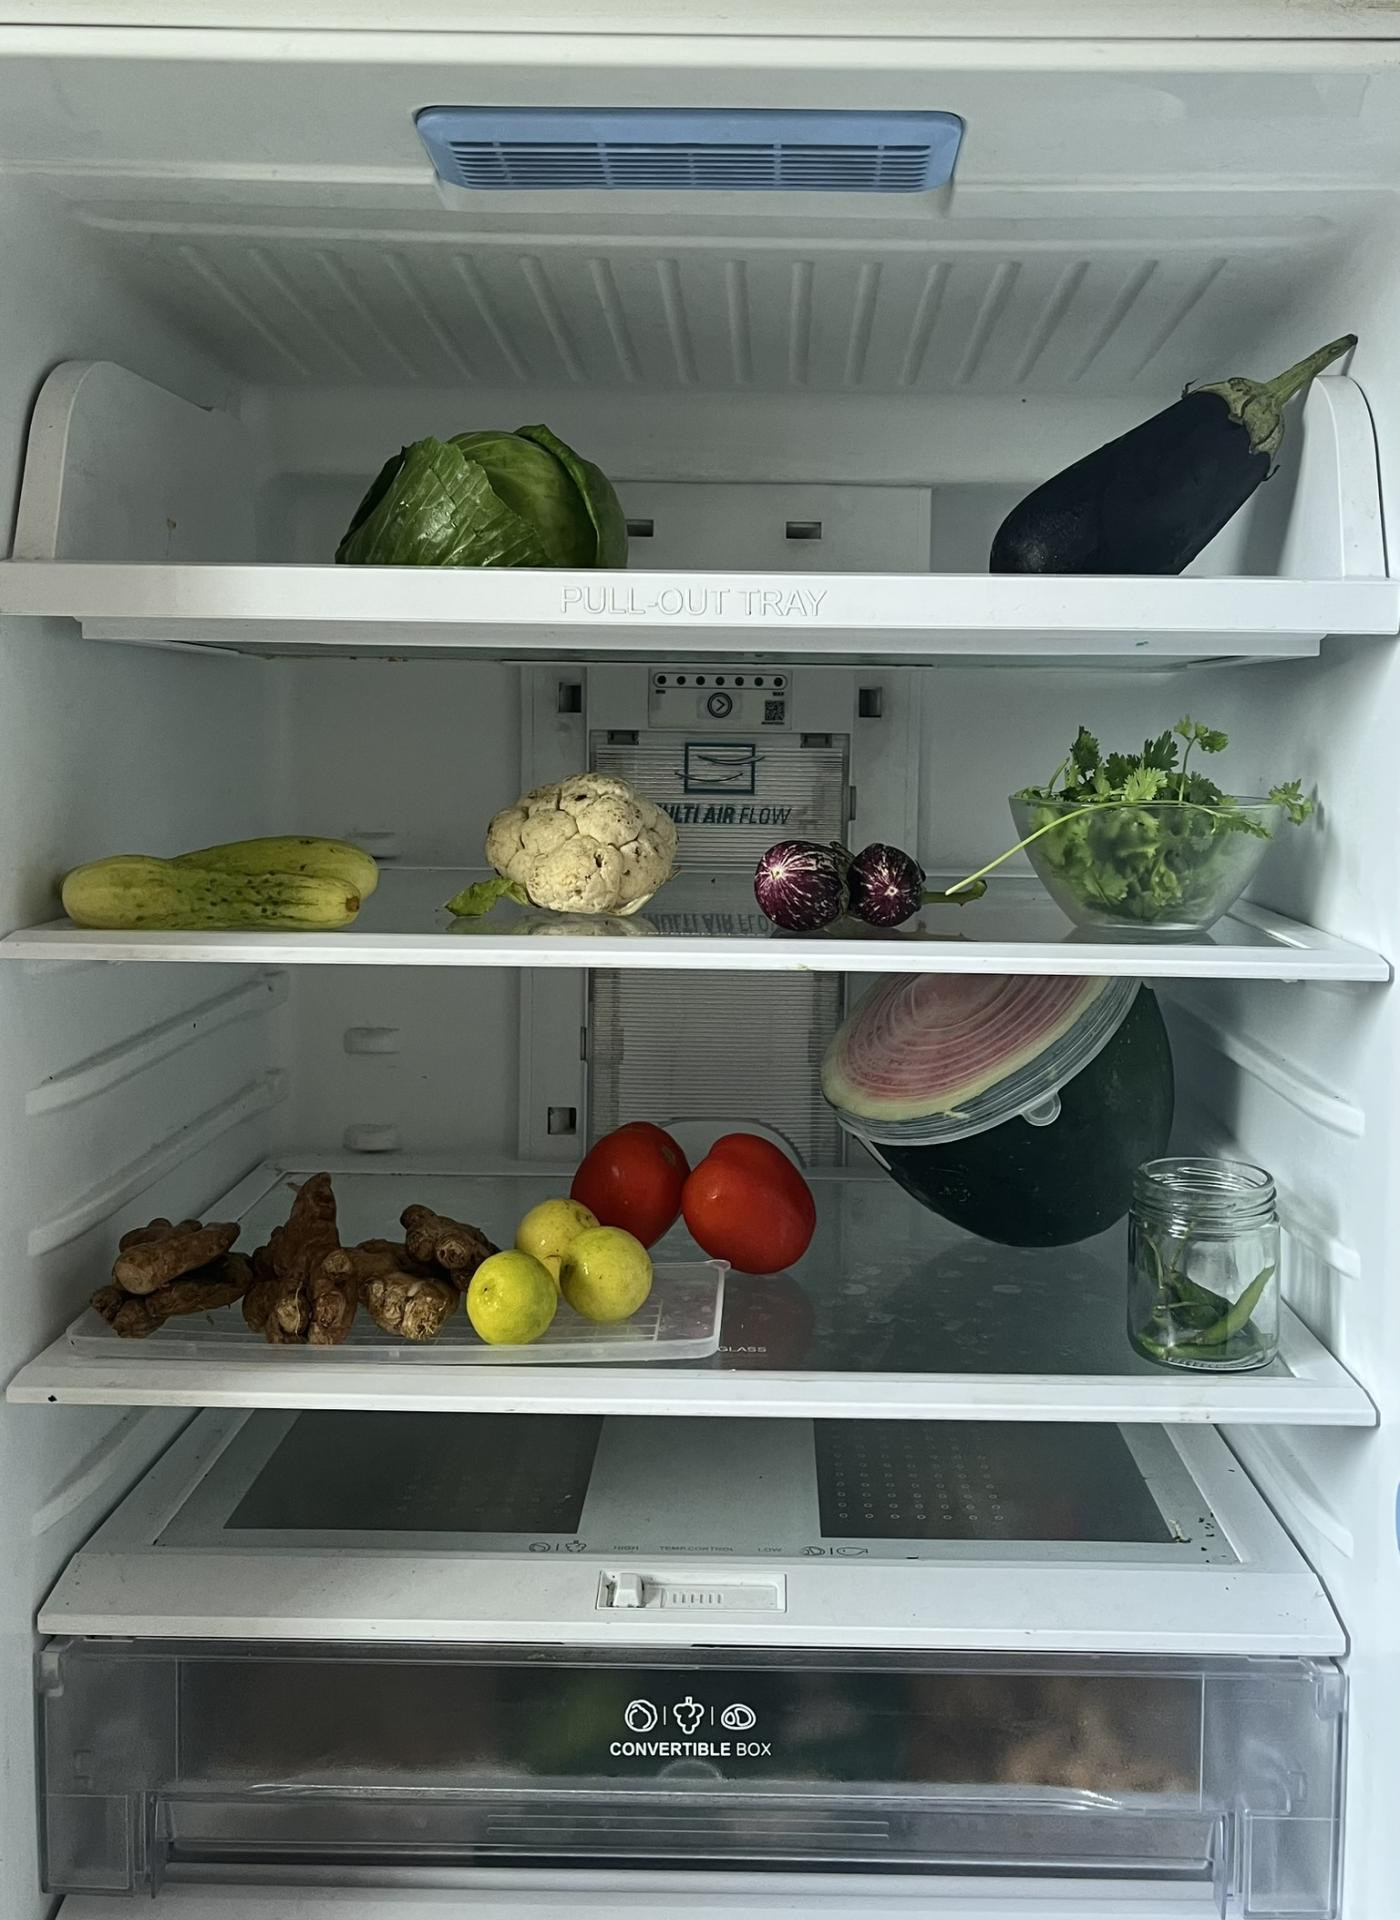cabbage: (349, 419, 635, 565)
cauliflower: (480, 781, 681, 909)
chillies: (1130, 1225, 1273, 1360)
coriander: (1006, 719, 1285, 926)
cucumber: (58, 835, 377, 921)
ginger: (106, 1160, 468, 1334)
lemon: (468, 1200, 647, 1351)
tomato: (571, 1115, 817, 1269)
watermelon: (838, 972, 1163, 1251)
